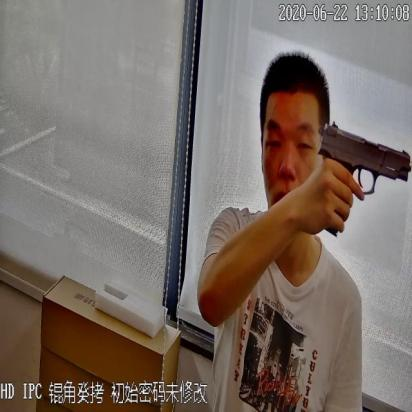Gun: (310, 121, 412, 247)
